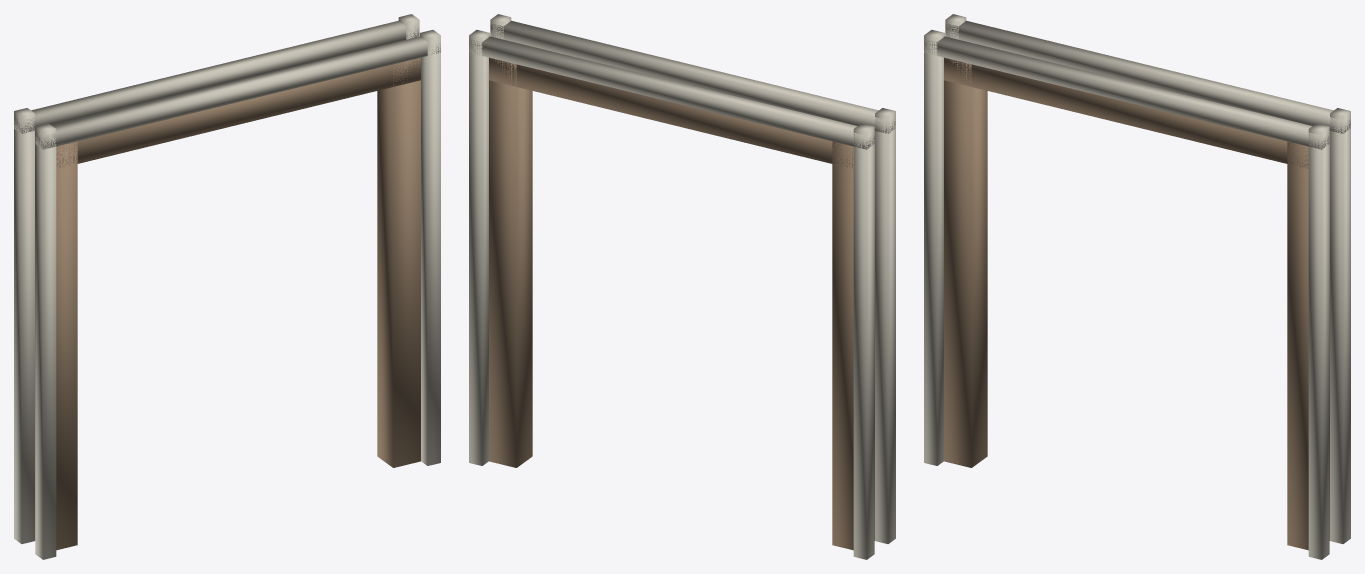
Rendered from doorway_painted_trim_w182_h210_d16.glb.
The picture shows the model from 3 angles, left to right: view 1: azimuth 30°, elevation 25°; view 2: azimuth 150°, elevation 25°; view 3: azimuth 330°, elevation 25°; orthographic projection.
Visible parts, largest first — view 1: world; view 2: world; view 3: world.
Boxes of the visible parts, x1,y1,x2,y2 form: world: (14, 14, 440, 559); world: (469, 14, 895, 559); world: (924, 14, 1350, 559).
Bounding box in the file's own units: 2.29 × 2.36 × 0.2906.
